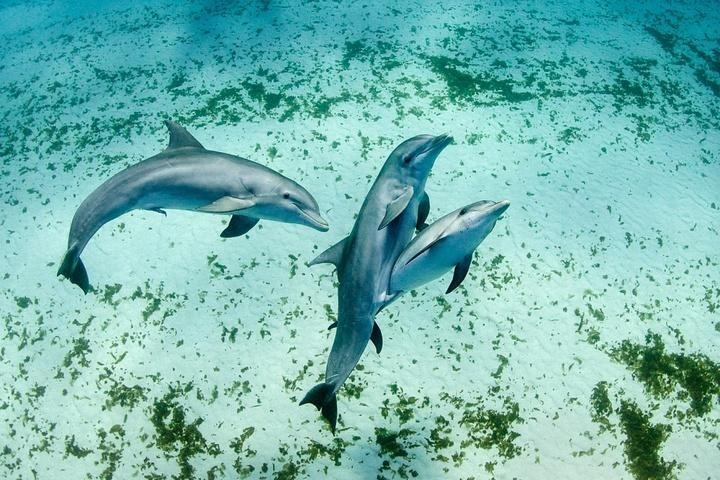fish: (44, 123, 331, 291), (306, 133, 457, 413), (392, 195, 517, 298)
